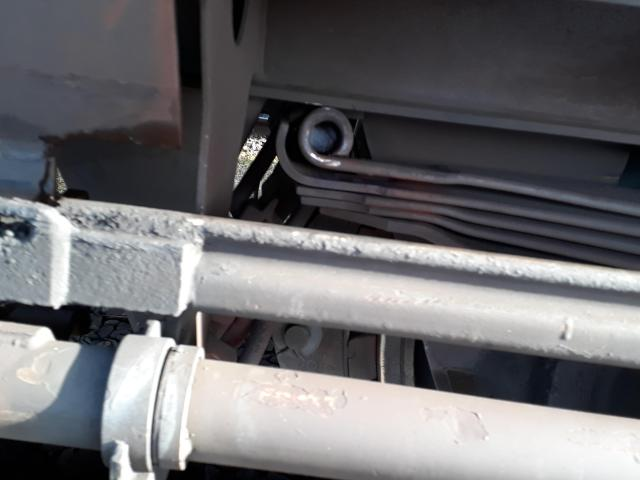blattfederww: (271, 102, 635, 267)
